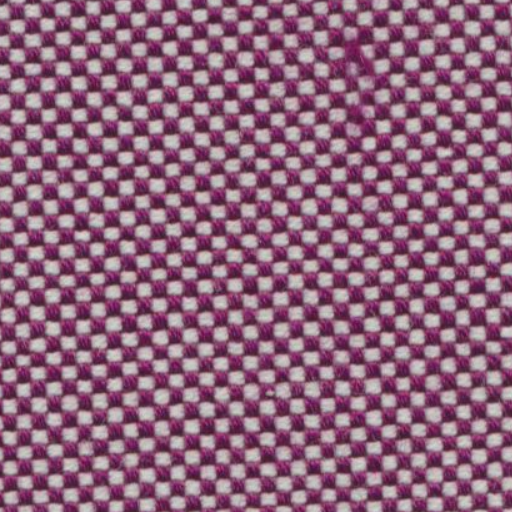DuanSha: (333, 30, 384, 80)
